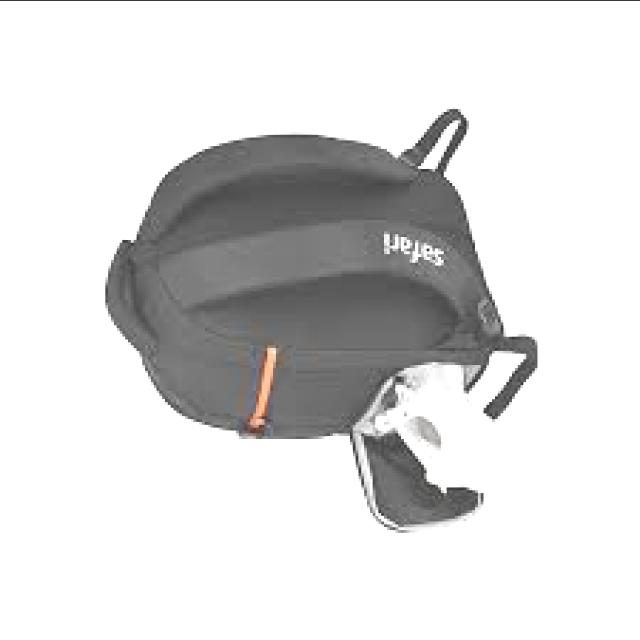backpack: (104, 110, 539, 536)
